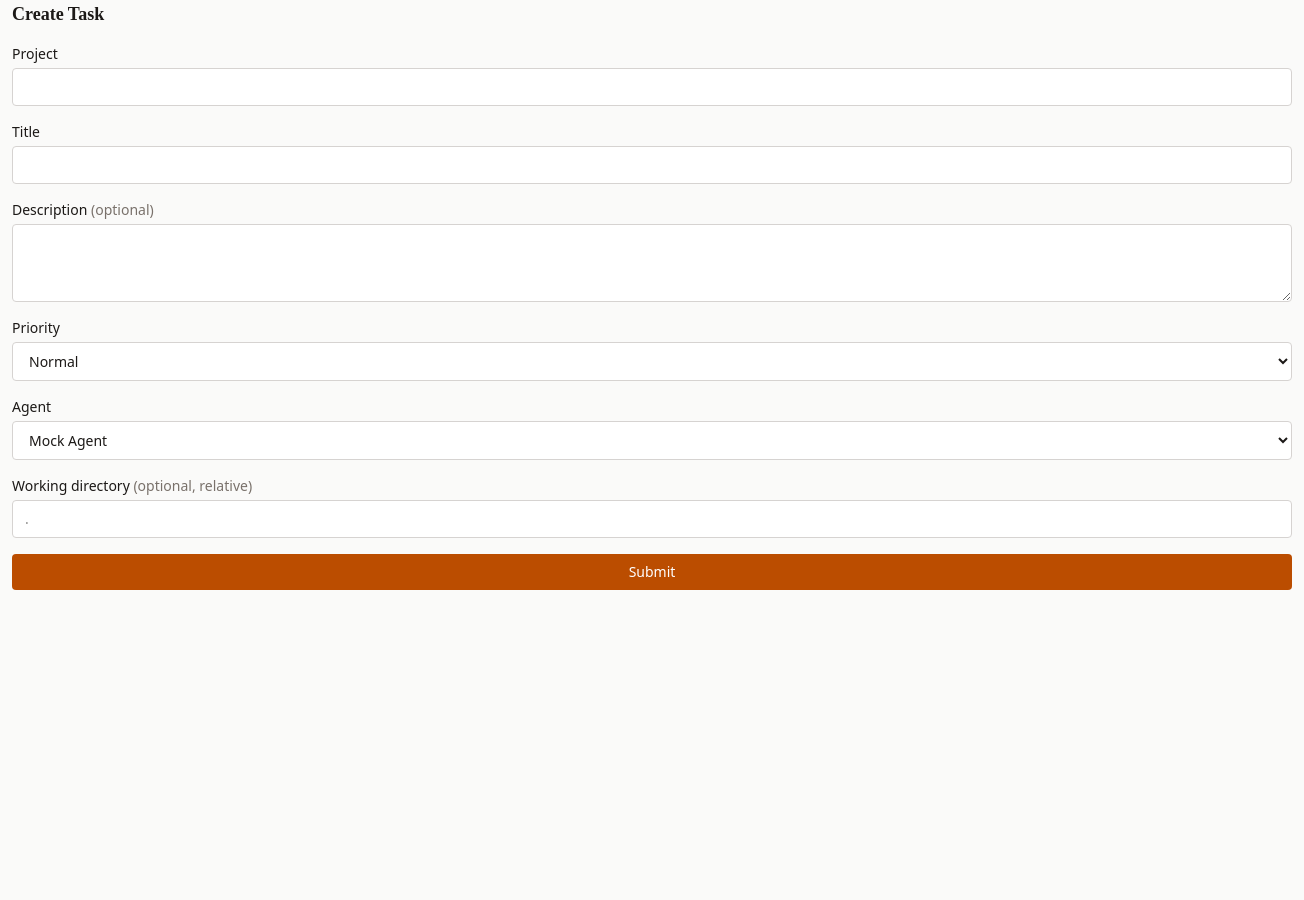
Test: TaskCreateForm › rejects an absolute working directory before submitting
The image size is (1304, 900).
Type "project-1" into the field labelled "Project" at {"x": 652, "y": 87}, box [12, 68, 1292, 106]
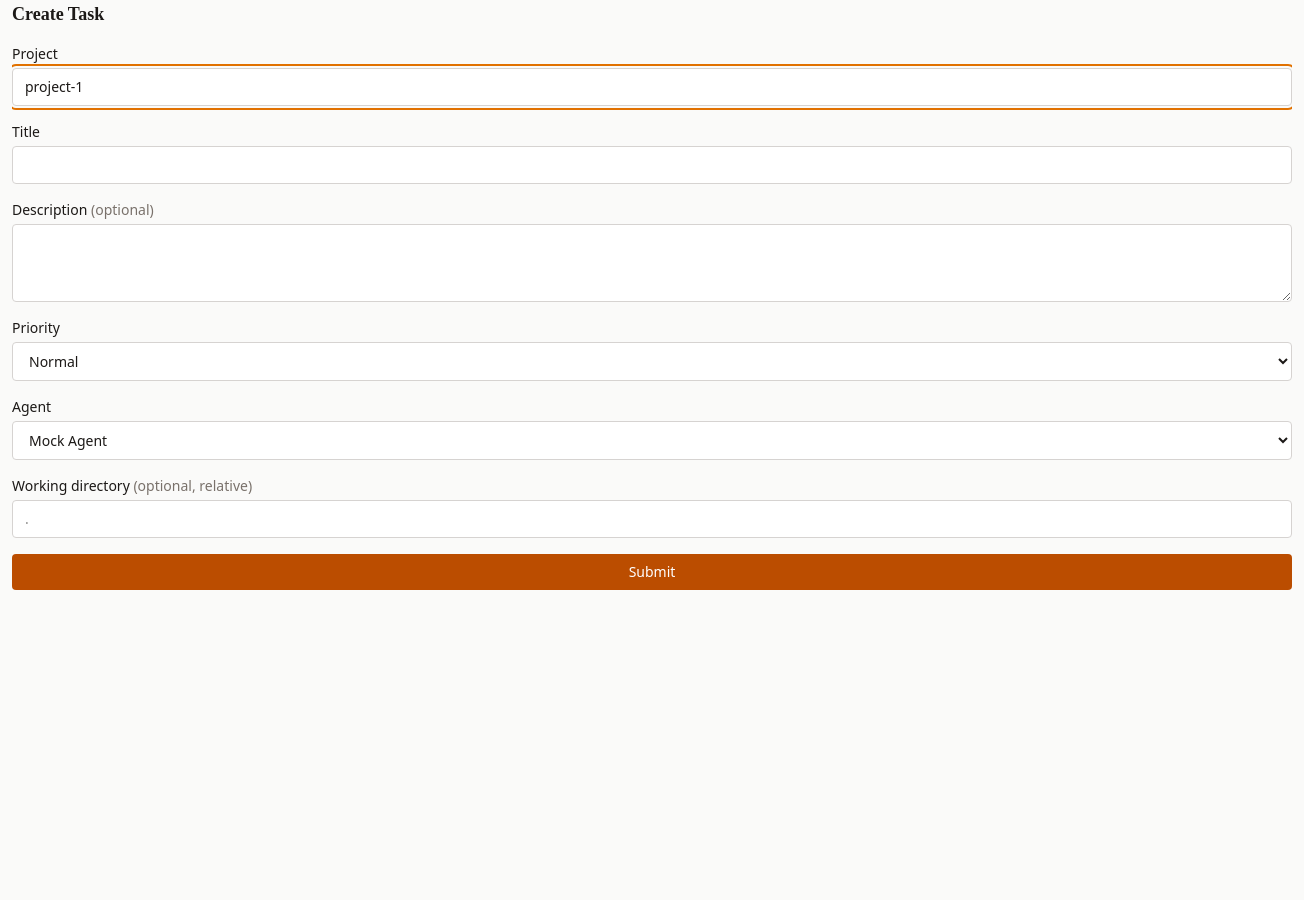
Type "Task title" into the field labelled "Title" at {"x": 652, "y": 165}, box [12, 146, 1292, 184]
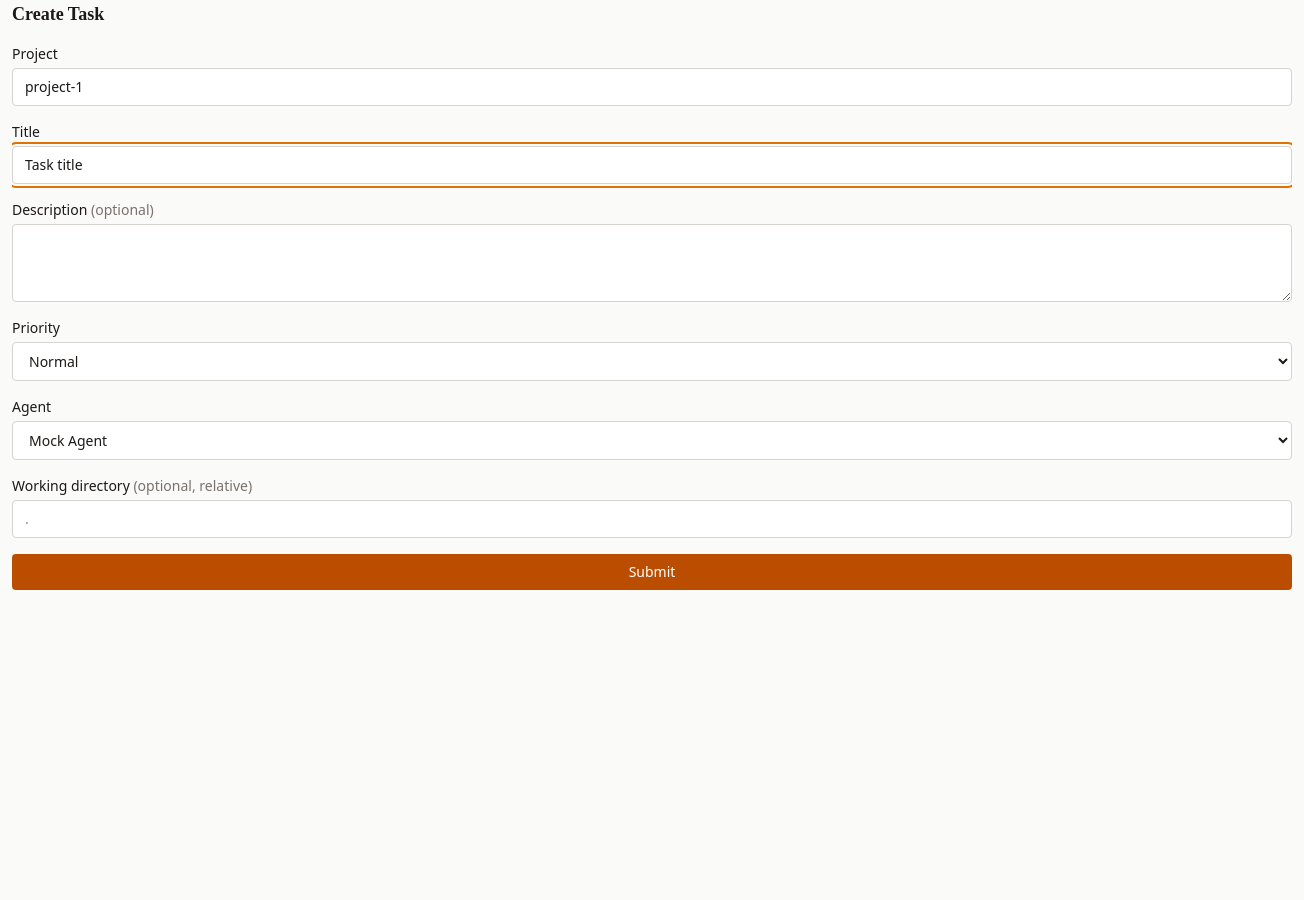
Type "C:\\absolute\\path" into the field labelled "Working directory (optional, relative)" at {"x": 652, "y": 519}, box [12, 500, 1292, 538]
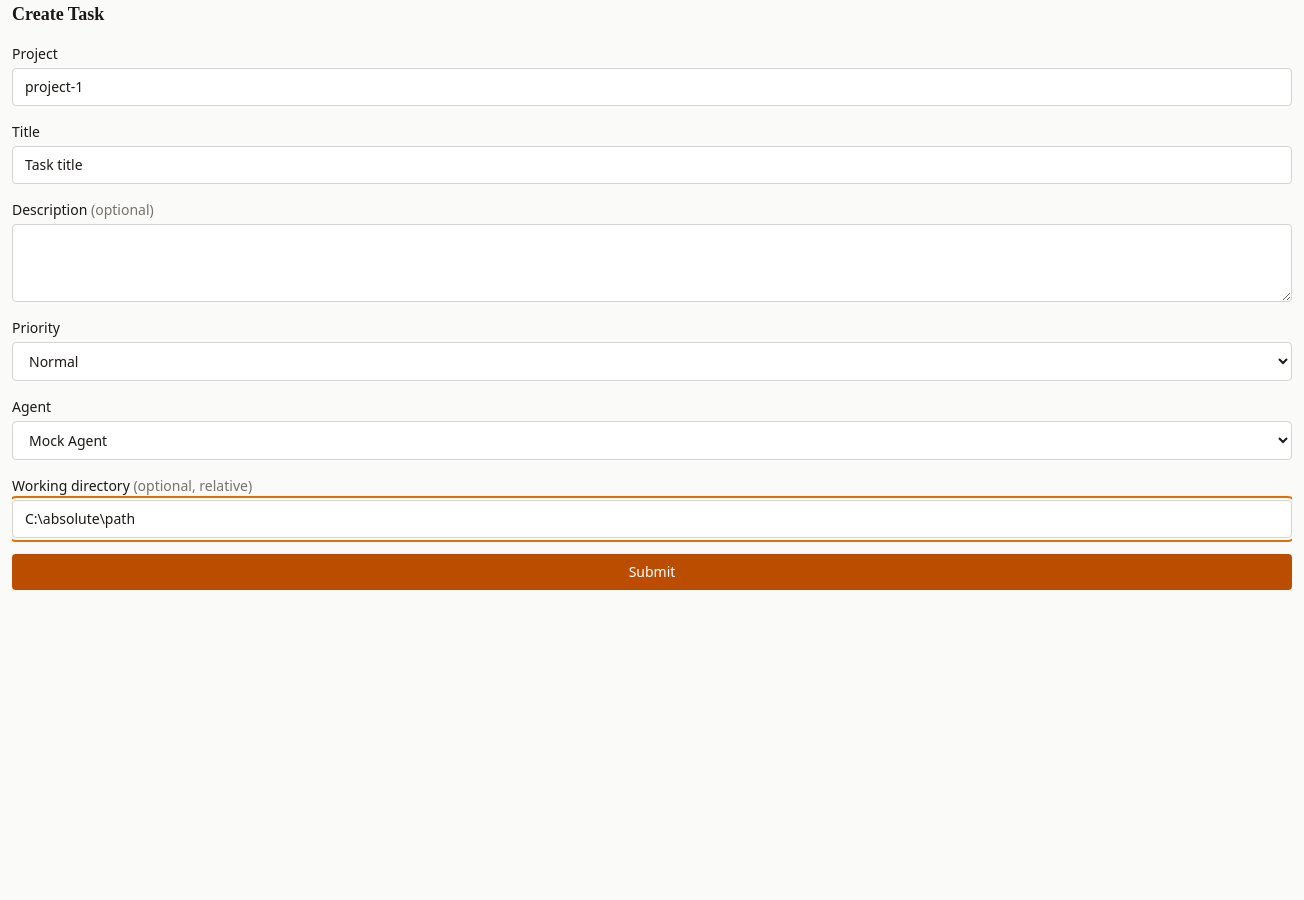
Click the button "Submit" at {"x": 652, "y": 572}, box [12, 554, 1292, 590]
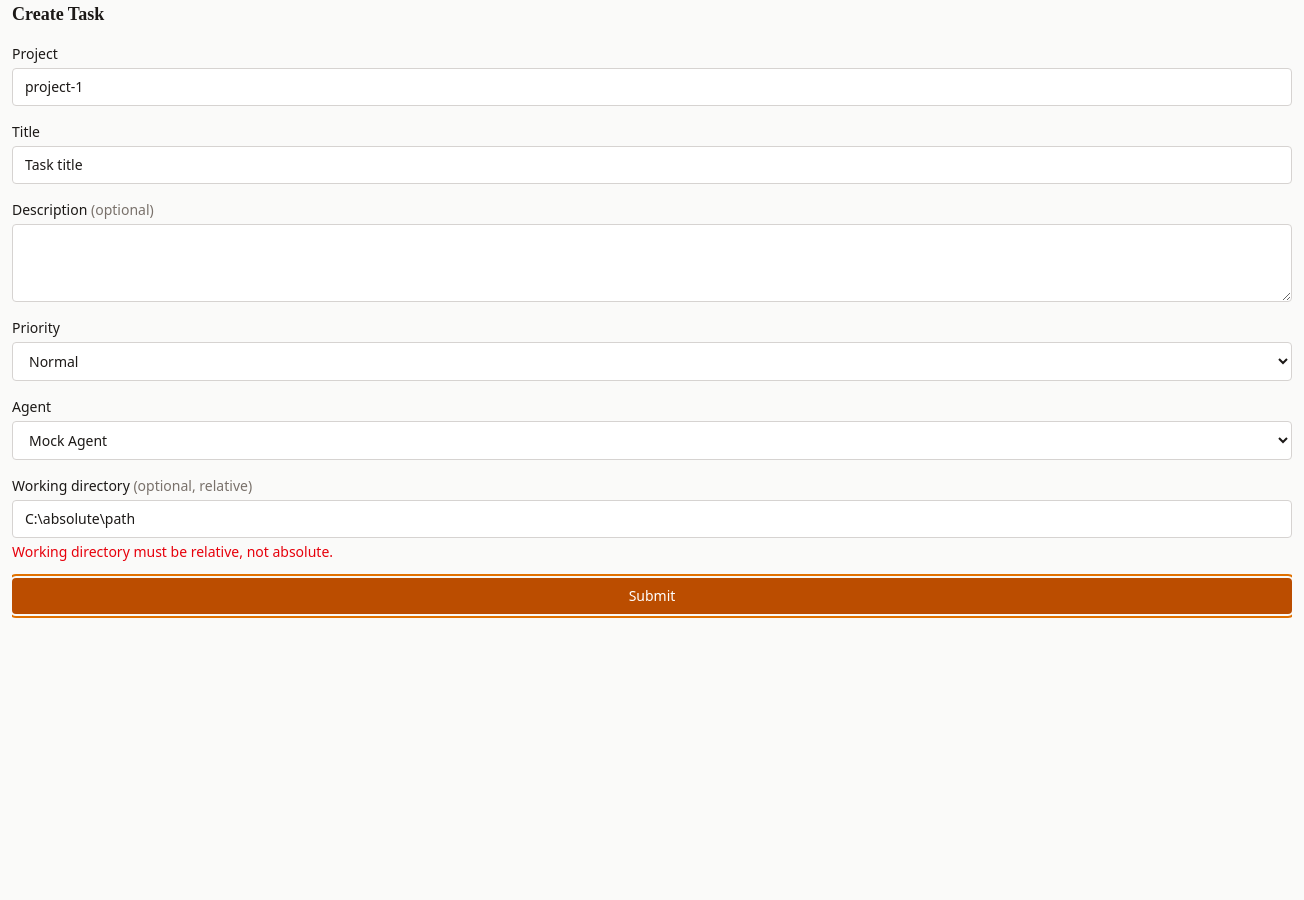
Now the text "Working directory must be relative, not absolute." is shown, box [12, 542, 333, 561]
